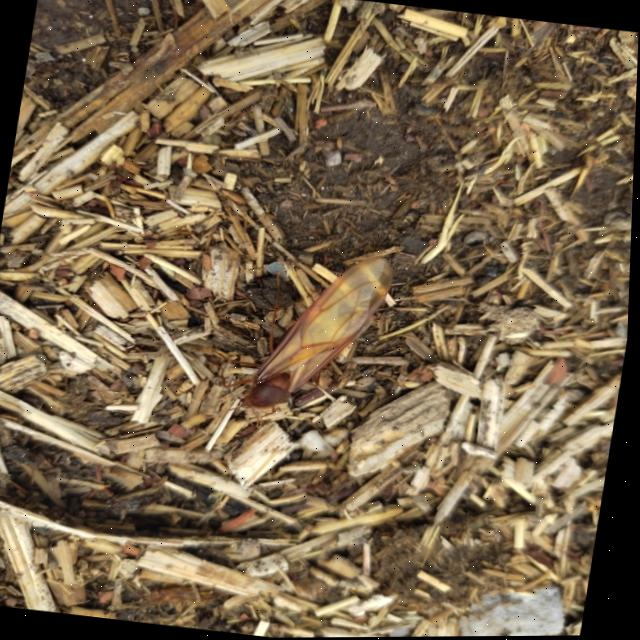Alive-Male-Alate: (185, 235, 399, 441)
